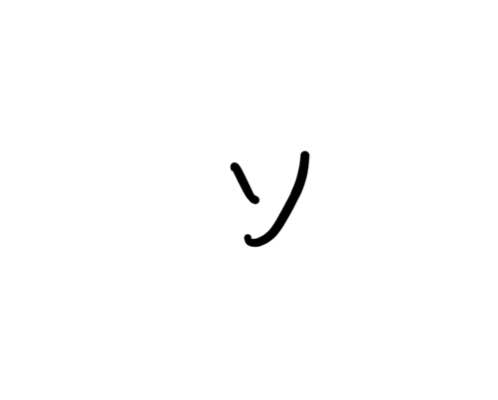n: (210, 141, 318, 253)
